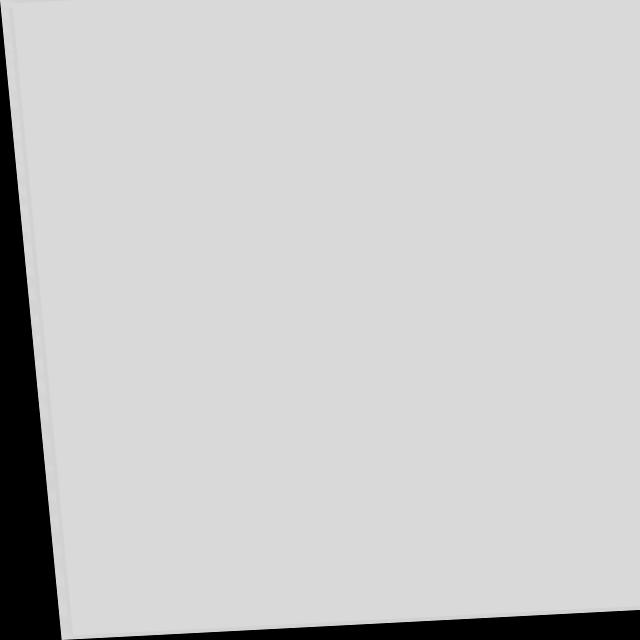qr_code: (12, 0, 640, 636)
